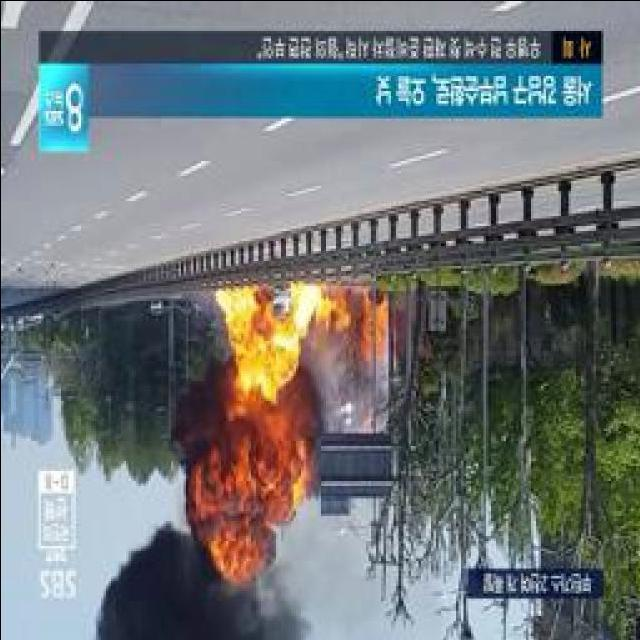Fire: (216, 276, 312, 390), (359, 294, 388, 346), (310, 288, 332, 320)
